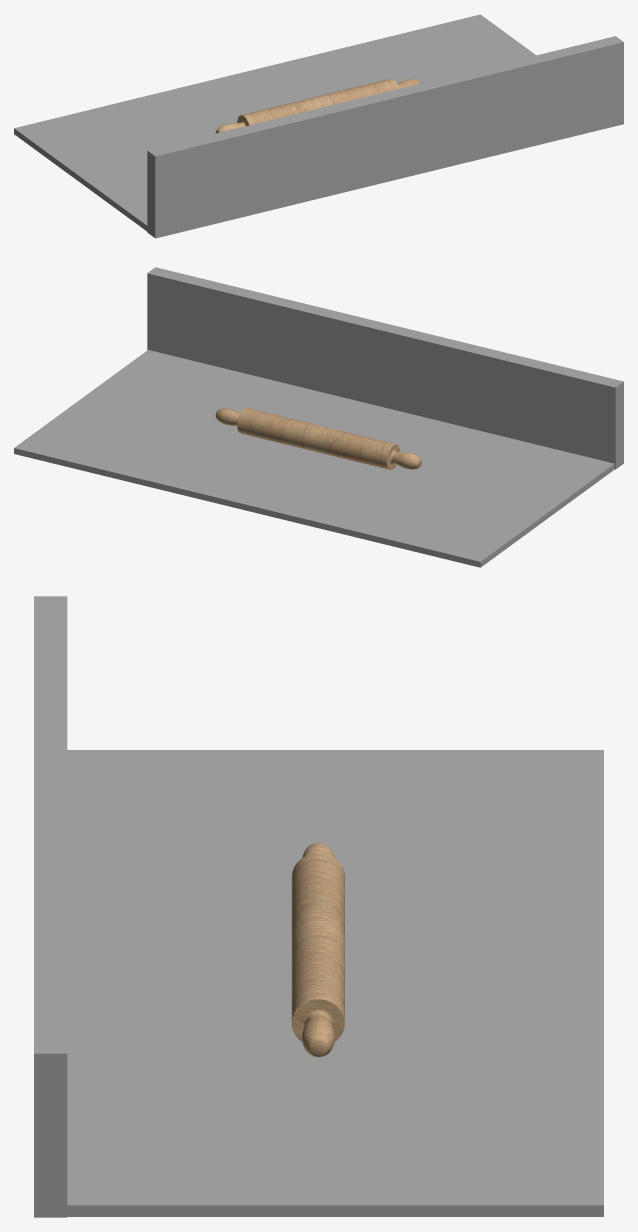
File: Rolling Pin.fbx
3 renders of one model, top to bottom at view 1: azimuth 30°, elevation 25°; view 2: azimuth 150°, elevation 25°; view 3: azimuth 270°, elevation 25°, orthographic. The views are drawn at different scales.
Parts seen in each view (by area): view 1: pCube3, Rolling_Pin; view 2: pCube3, Rolling_Pin; view 3: pCube3, Rolling_Pin.
Boxes of the visible parts, x1,y1,x2,y2 form: pCube3: (14, 14, 623, 238); Rolling_Pin: (215, 78, 420, 133); pCube3: (14, 267, 623, 567); Rolling_Pin: (215, 407, 421, 470); pCube3: (34, 596, 603, 1217); Rolling_Pin: (291, 843, 344, 1057).
Bounding box in the file's own units: 83.13 × 13.94 × 43.79.
2 materials, 1 textured.
